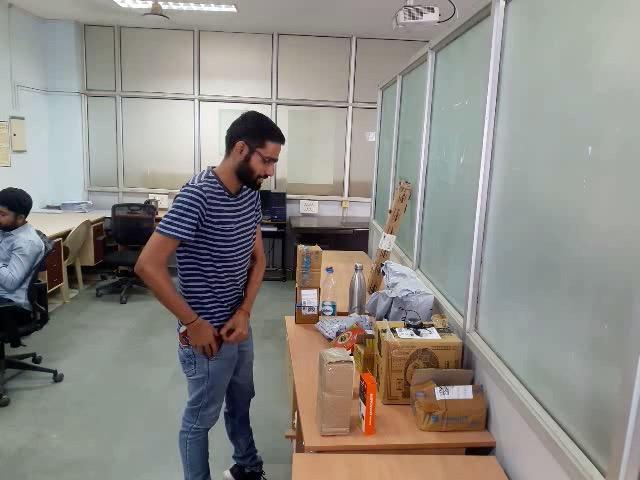shoplifting: (145, 296, 287, 365)
